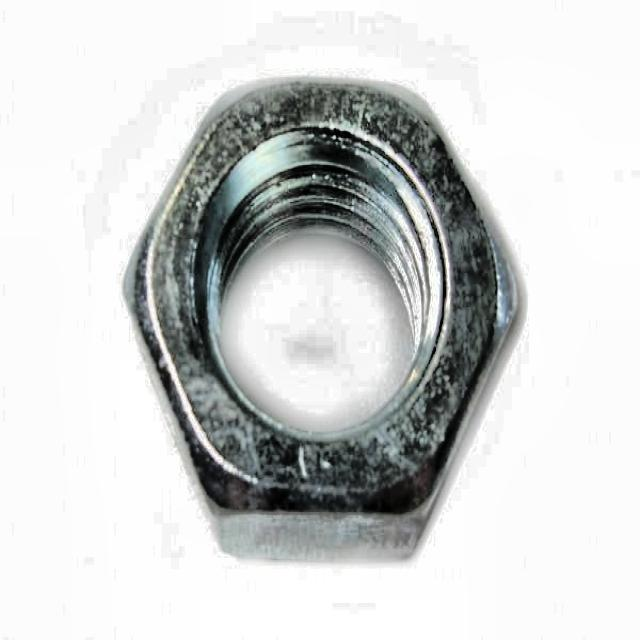Nut Detection - v1 Nut Dataset: (113, 44, 532, 573)
